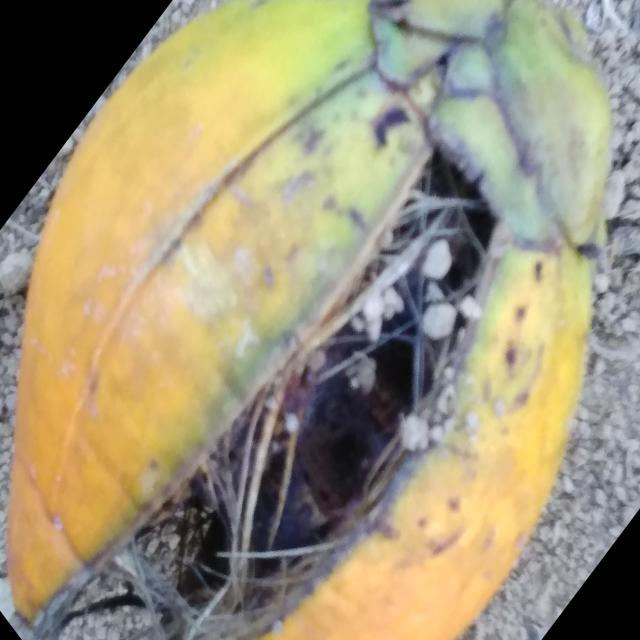damaged: (7, 0, 611, 640)
